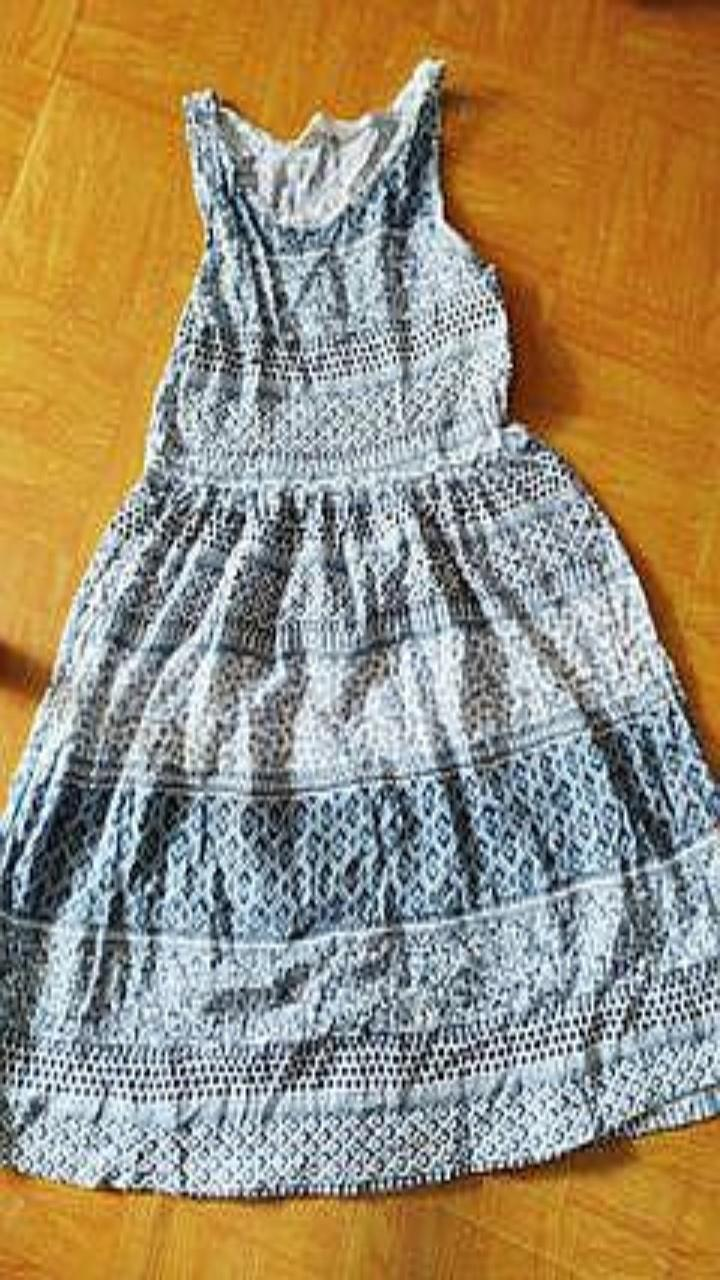Dresses: (0, 58, 719, 1196)
